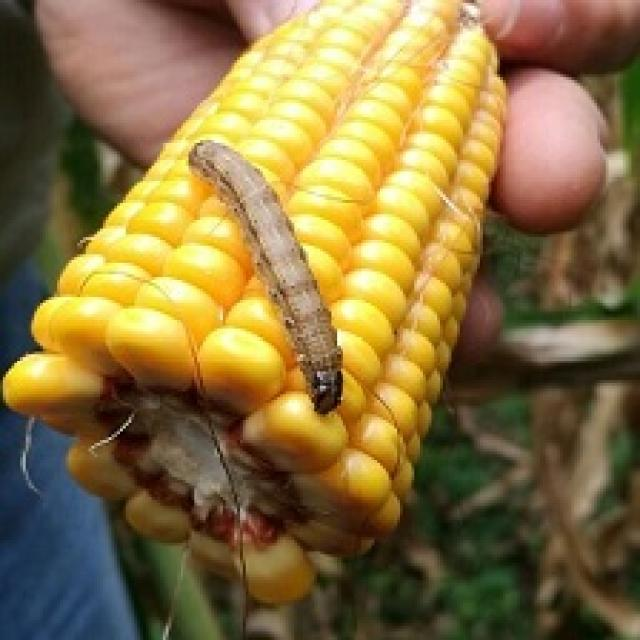worm: (187, 138, 344, 415)
